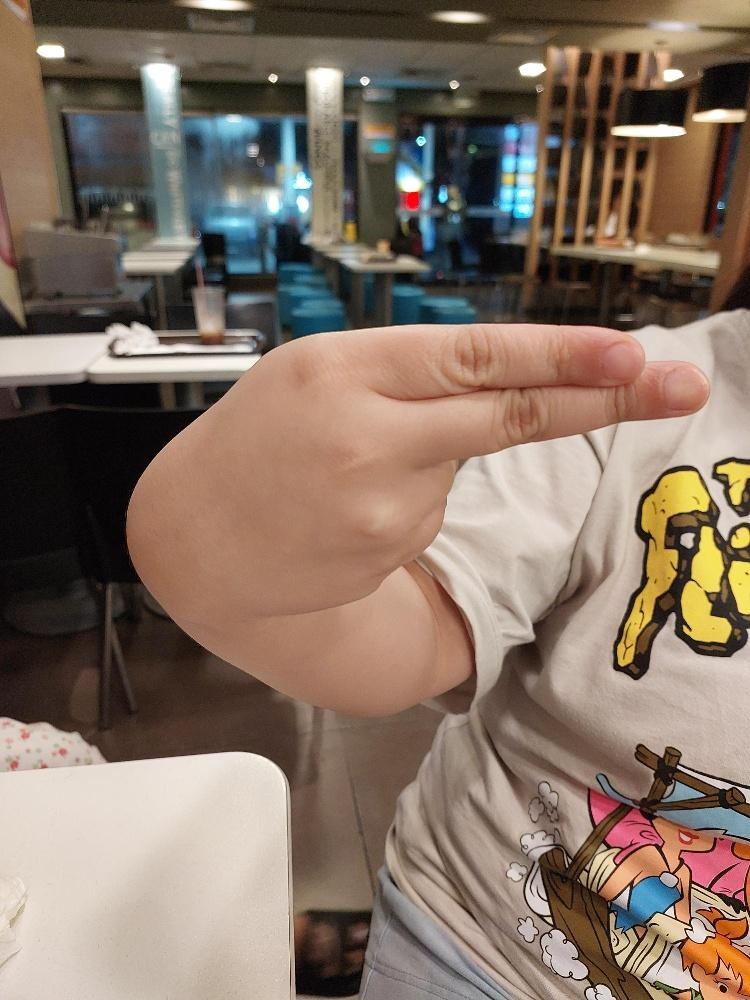h: (123, 319, 710, 621)
